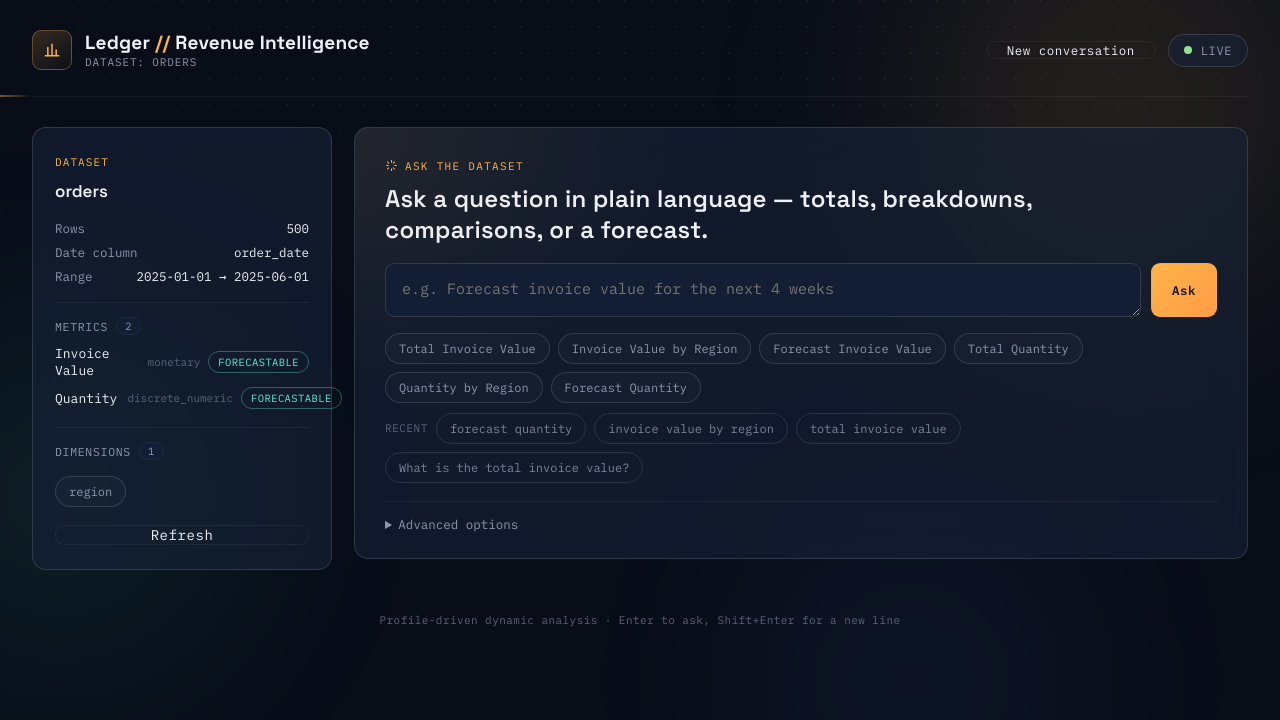
Test case: App › renders a useful message for a backend error
Expected: the text "Invoice Value" is shown, top-left (55, 345), bottom-right (110, 379)
In the text box named "ask a question about your dataset": (763, 290) top-left (386, 264), bottom-right (1140, 316), type "show something unknown"
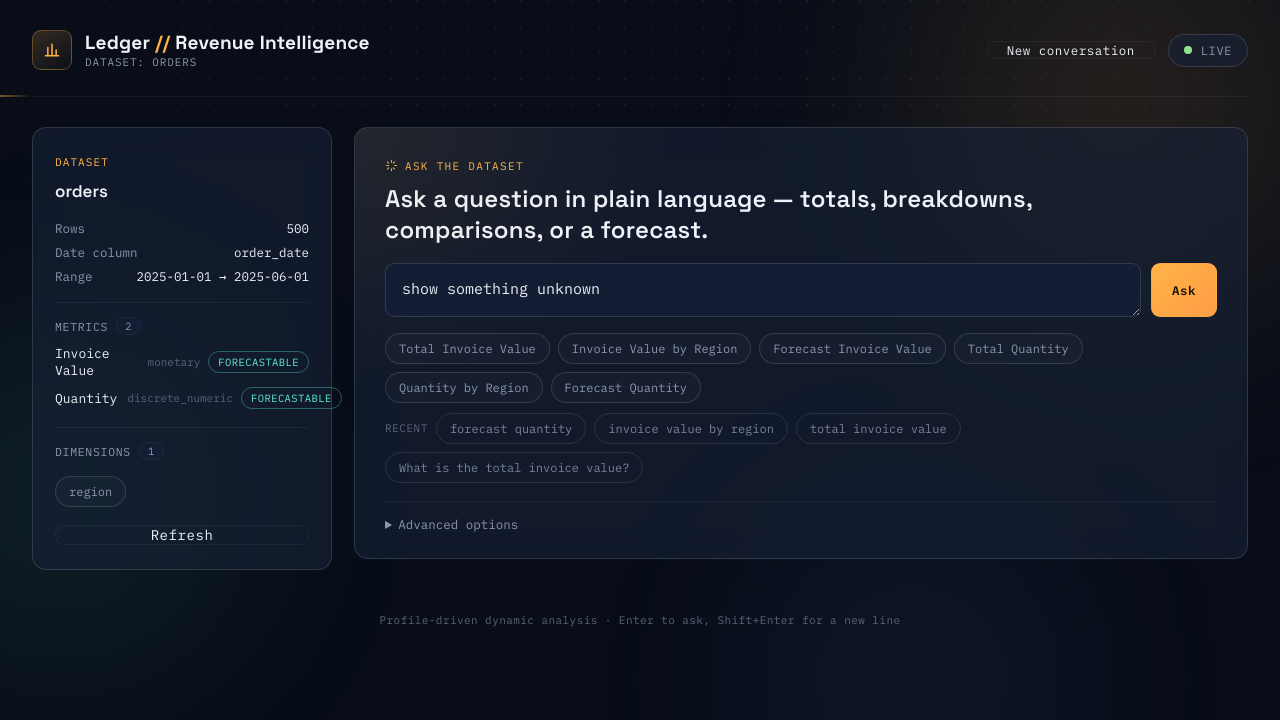
Press Enter in the text box named "ask a question about your dataset", box top-left (386, 264), bottom-right (1140, 316)
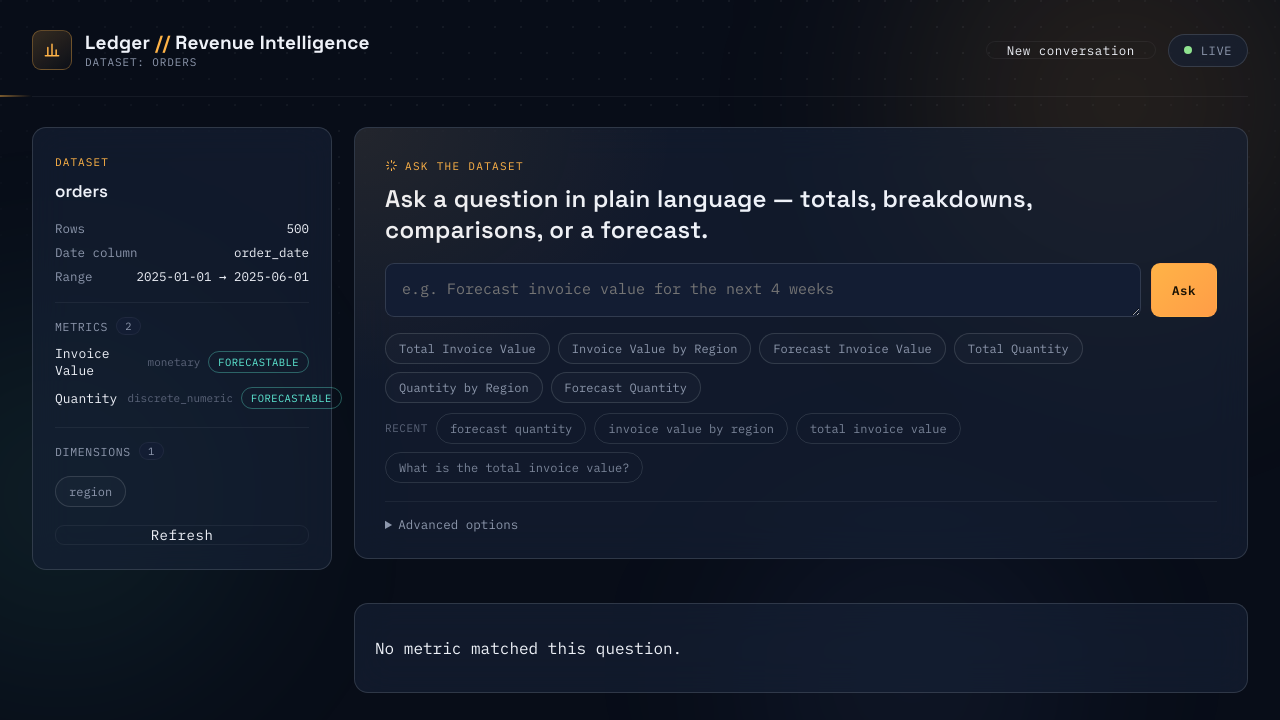
Expected: the text "No metric matched this question." is shown, top-left (375, 638), bottom-right (682, 658)
